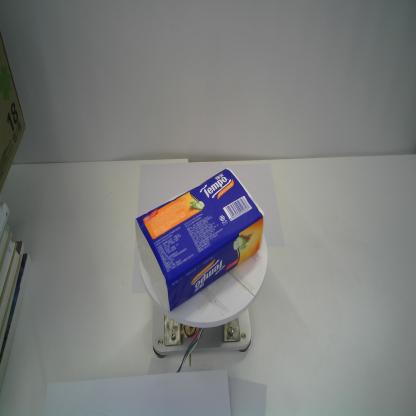Tissue: (133, 166, 267, 316)
